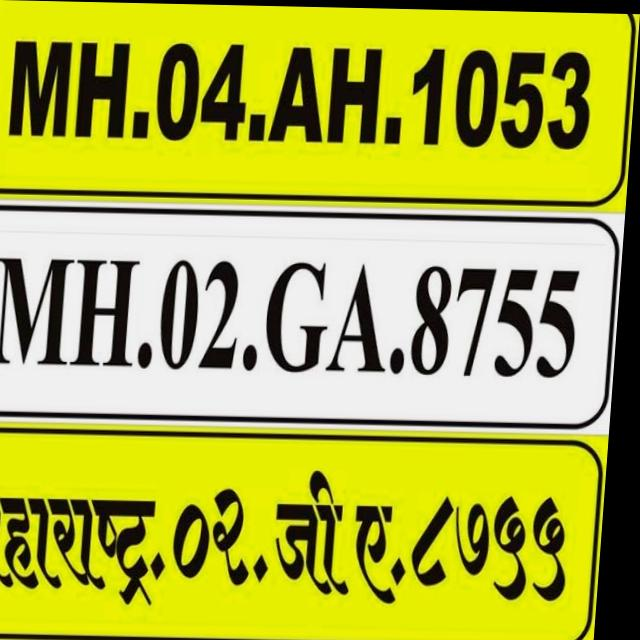0: (453, 40, 506, 145), (161, 253, 206, 371), (155, 43, 203, 144)
1: (409, 46, 454, 146)
2: (205, 258, 248, 372)
3: (545, 45, 600, 149)
4: (202, 35, 254, 143)
5: (496, 263, 546, 377), (498, 41, 550, 149), (540, 265, 589, 379)
7: (456, 256, 500, 379)
8: (412, 260, 462, 378)
a: (333, 258, 395, 377), (269, 45, 332, 144)
g: (269, 252, 339, 373)
h: (76, 253, 147, 366), (75, 37, 134, 139), (328, 39, 384, 146)
m: (0, 253, 77, 370), (3, 31, 79, 140)
